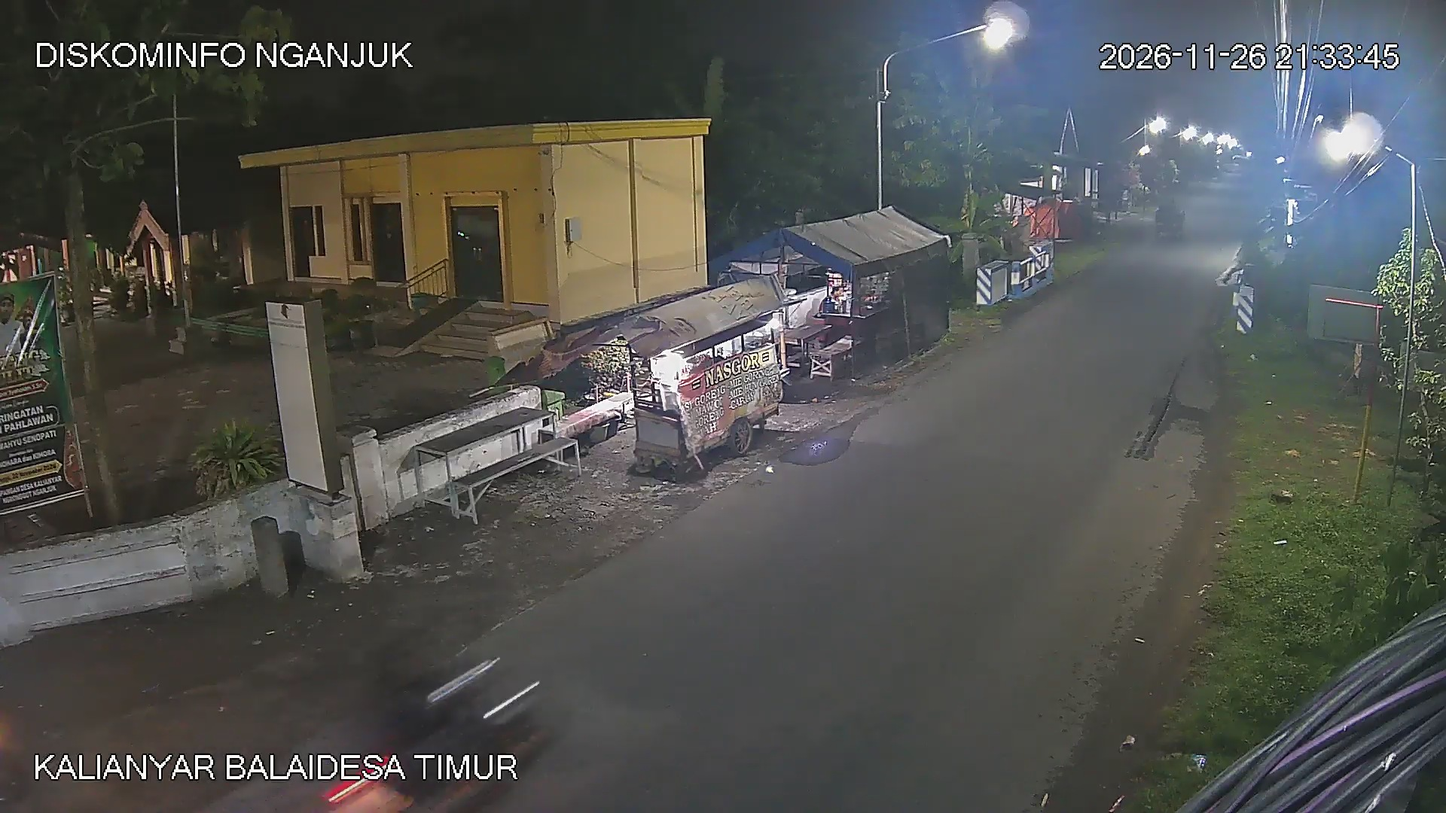Gerobak: (603, 276, 795, 475)
